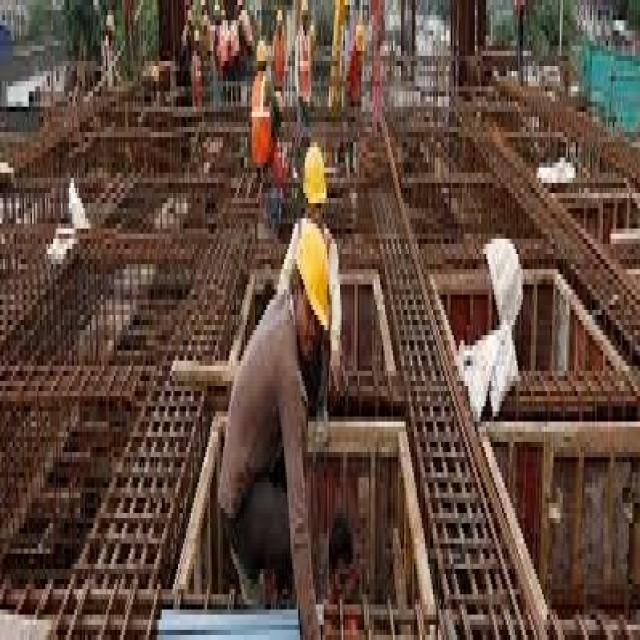Reflective-Jacket: (220, 290, 303, 528)
Safety-Helmet: (481, 224, 528, 340), (294, 218, 334, 340), (300, 137, 330, 219), (255, 36, 268, 71)
